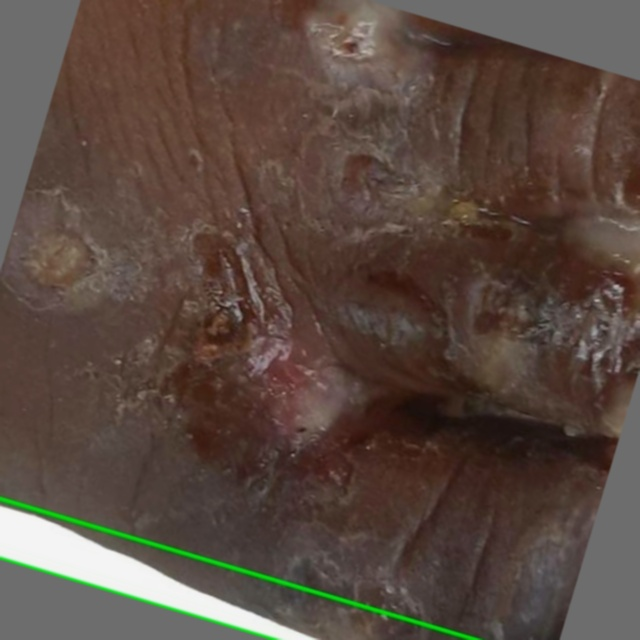Eczema: (0, 498, 475, 639)
